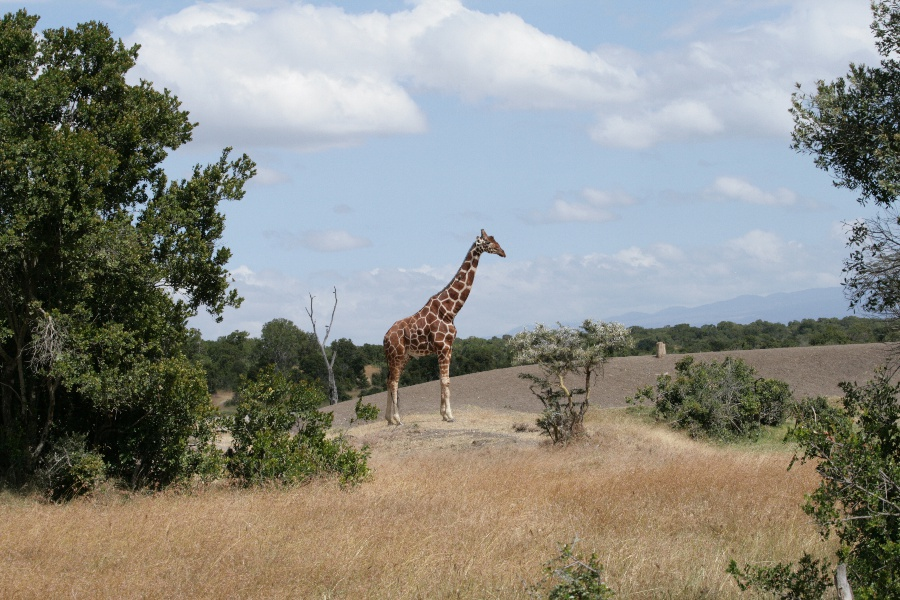giraffe: (375, 221, 506, 426)
